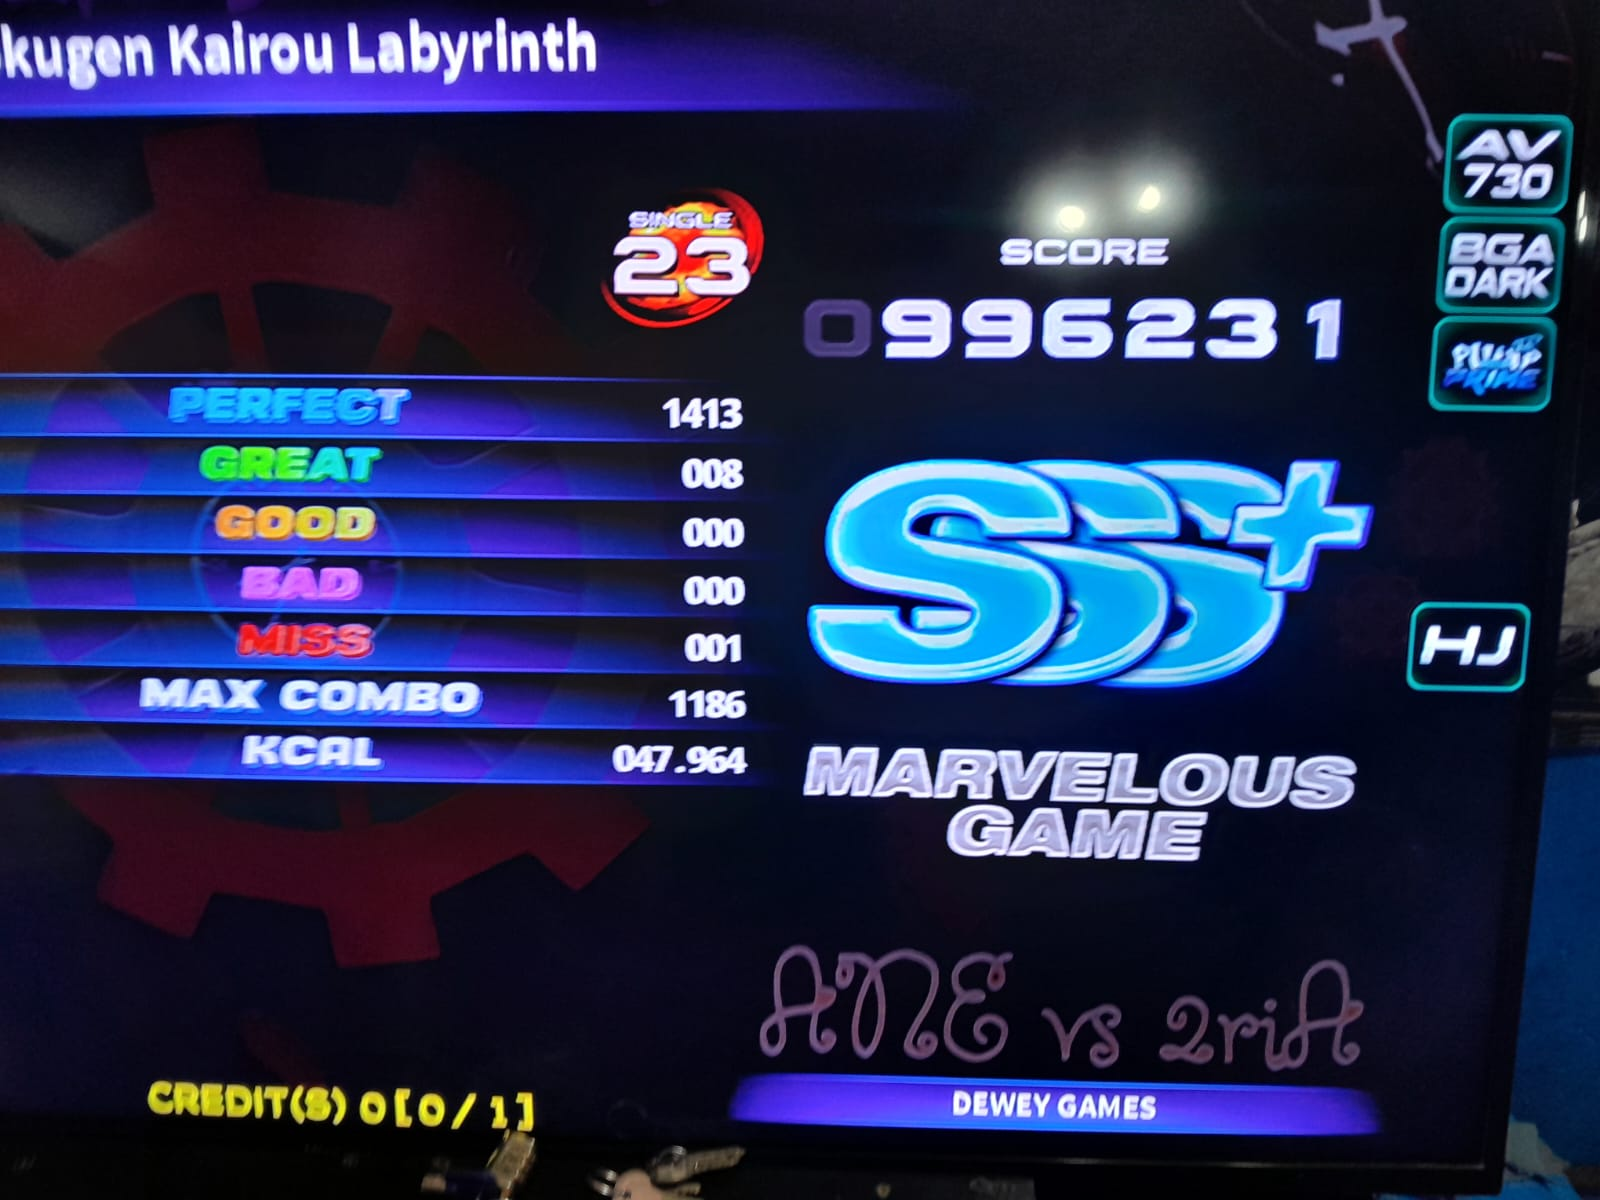difficulty: (592, 180, 769, 345)
fullscore: (21, 6, 1600, 1184)
rank: (791, 366, 1369, 703)
score: (791, 224, 1367, 358)
song_name: (0, 0, 1039, 111)
